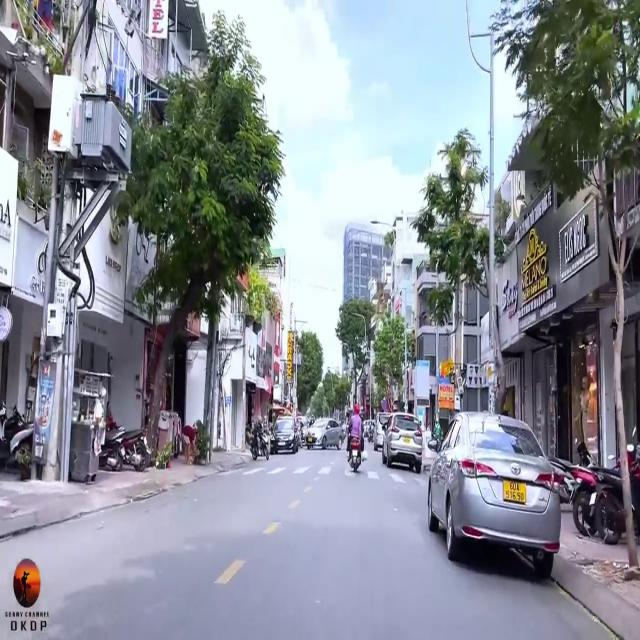bien_vang: (500, 478, 530, 511)
